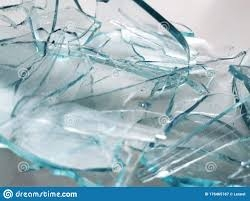glass: (134, 2, 250, 92), (14, 27, 105, 131), (127, 65, 216, 168), (139, 106, 250, 188), (3, 128, 128, 186), (2, 1, 97, 51), (224, 57, 250, 95)
